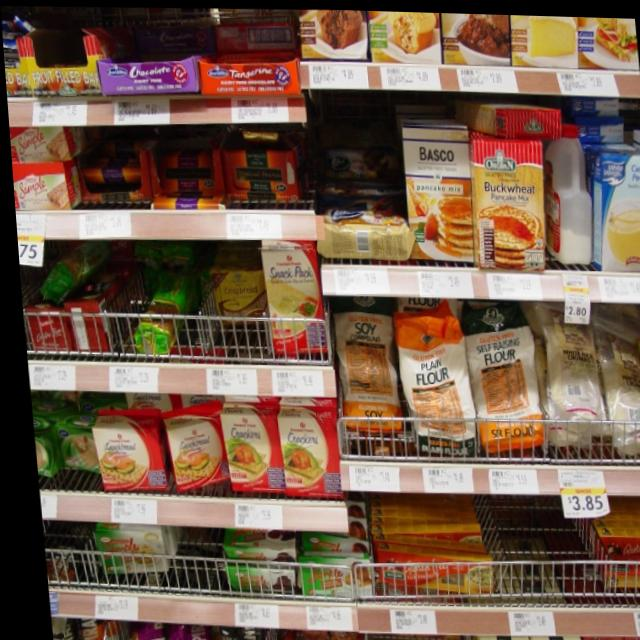q22: (85, 406, 159, 496), (158, 413, 217, 494)
q25: (464, 133, 545, 276)
